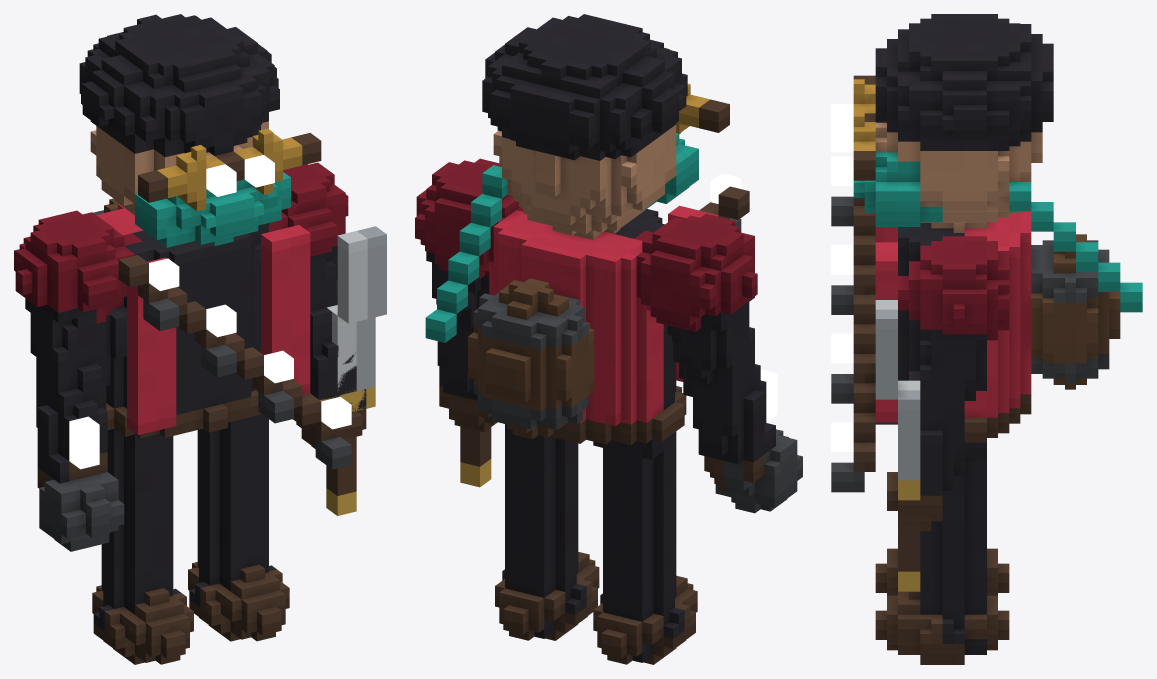
The model's file is u_artificier__lame.glb.
The picture shows the model from 3 angles, left to right: view 1: azimuth 30°, elevation 25°; view 2: azimuth 150°, elevation 25°; view 3: azimuth 270°, elevation 25°; orthographic projection. The views are drawn at different scales.
Parts seen in each view (by area): view 1: artificier_body, artificier_weapon, artificier_glow; view 2: artificier_body, artificier_weapon, artificier_glow; view 3: artificier_body, artificier_weapon, artificier_glow.
Boxes of the visible parts, x1,y1,x2,y2 form: artificier_body: (14, 14, 366, 664); artificier_weapon: (320, 226, 386, 515); artificier_glow: (69, 155, 351, 469); artificier_body: (415, 14, 802, 664); artificier_weapon: (460, 426, 491, 487); artificier_glow: (662, 173, 777, 422); artificier_body: (831, 14, 1142, 664); artificier_weapon: (875, 300, 920, 591); artificier_glow: (831, 104, 853, 451).
Bounding box in the file's own units: 0.85 × 1.47 × 0.7.
